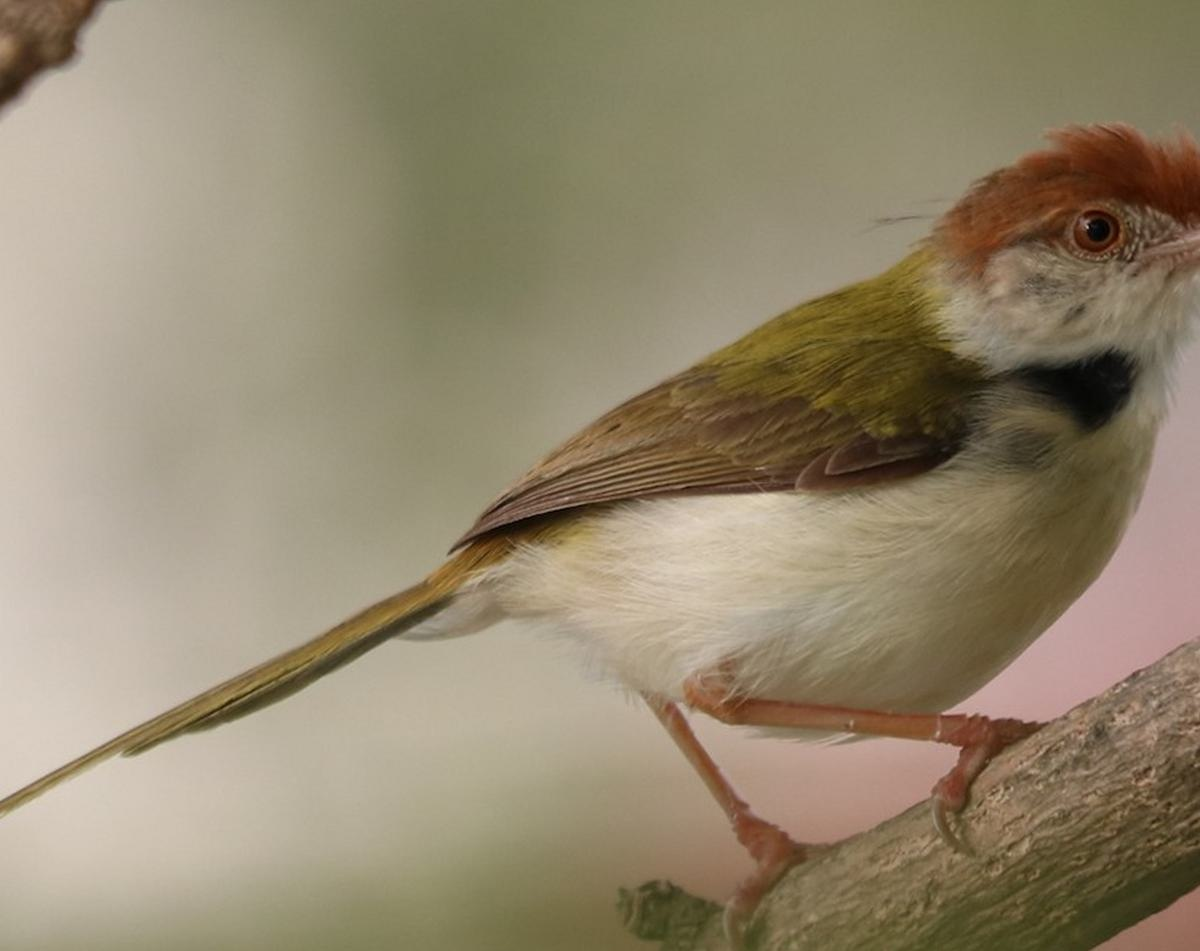tailorbird: (11, 140, 1200, 907)
